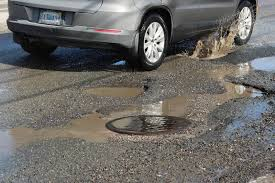pothole: (4, 103, 275, 153), (187, 44, 275, 103), (81, 77, 153, 101), (226, 156, 275, 180)
